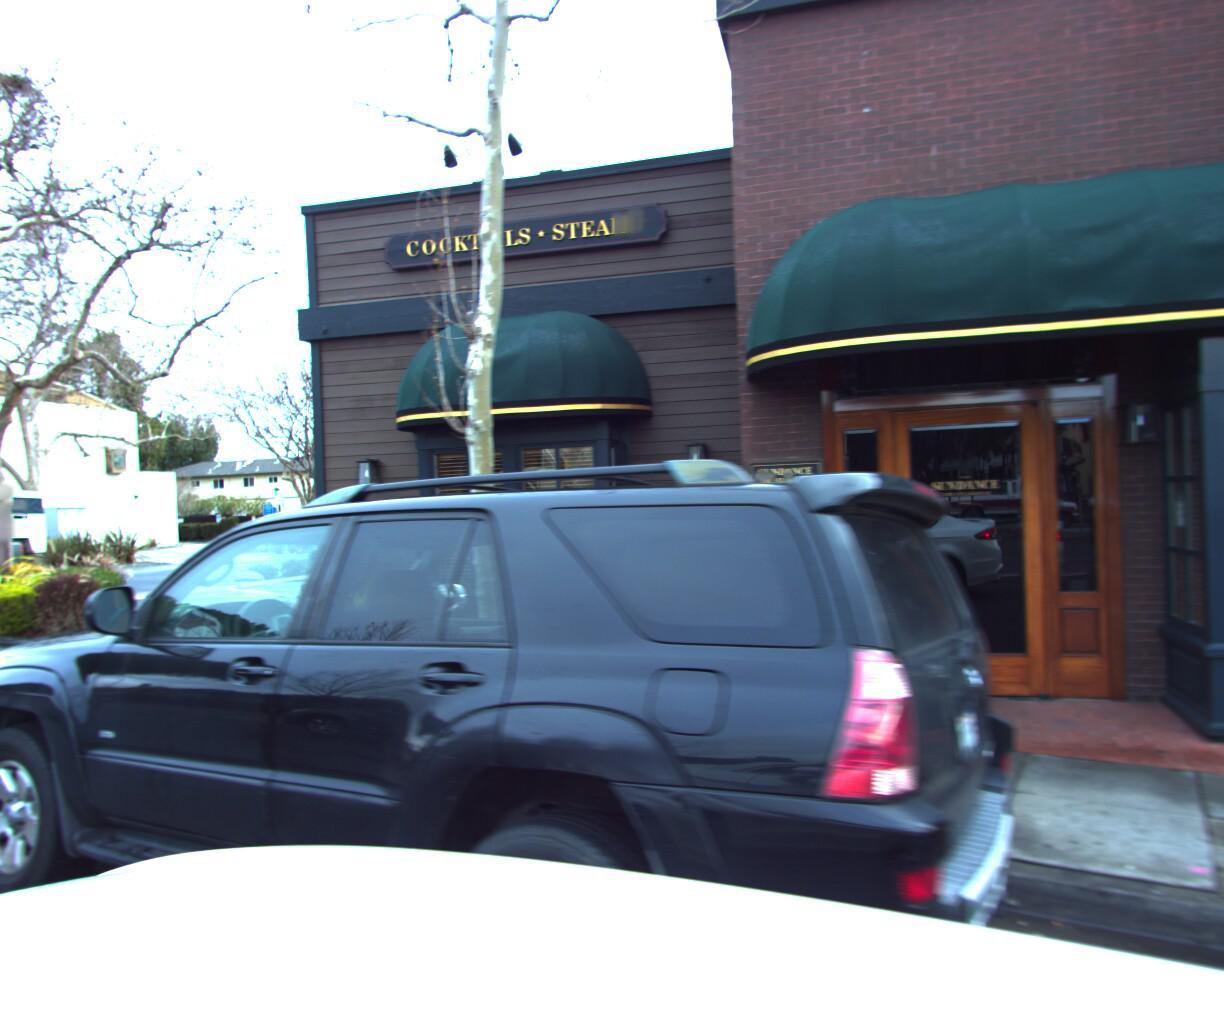car: (0, 407, 1054, 1024), (0, 476, 62, 593)
